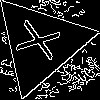X: (15, 19, 71, 65)
